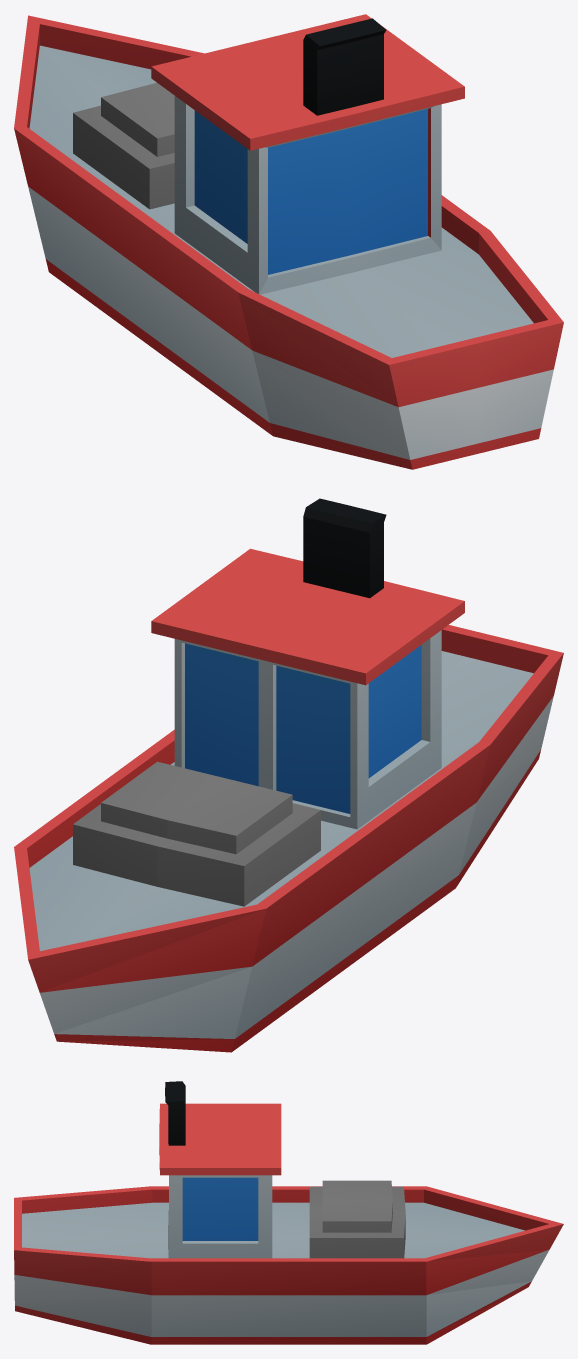
Rendered from hajo2.fbx.
3 views of the same model, one above another, from view 1: azimuth 30°, elevation 25°; view 2: azimuth 150°, elevation 25°; view 3: azimuth 270°, elevation 25° (orthographic). The views are drawn at different scales.
Parts seen in each view (by area): view 1: boatz; view 2: boatz; view 3: boatz.
Part boxes in pixels (x1,y1,x2,y2): boatz: (14, 14, 563, 469); boatz: (14, 498, 563, 1052); boatz: (14, 1081, 563, 1344).
Bounding box in the file's own units: 1.3 × 1.82 × 4.
Materials: 1 (1 with a texture image).
